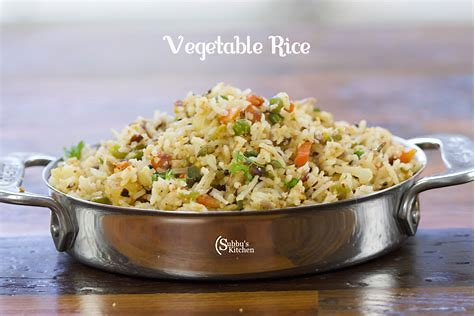inorganic: (67, 91, 420, 179)
organic: (15, 181, 448, 273)
